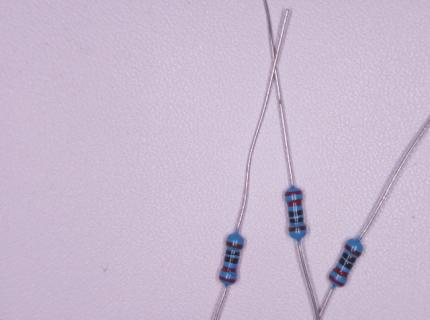Black band: (338, 258, 353, 270), (342, 252, 357, 263), (224, 256, 239, 265), (288, 209, 303, 217), (226, 249, 240, 256), (289, 217, 303, 223)
Brown band: (344, 243, 362, 257), (226, 240, 243, 249), (289, 226, 307, 232)
Red band: (328, 273, 345, 287), (332, 266, 349, 278), (219, 275, 236, 284), (221, 265, 237, 273), (287, 199, 302, 207), (284, 191, 303, 196)
